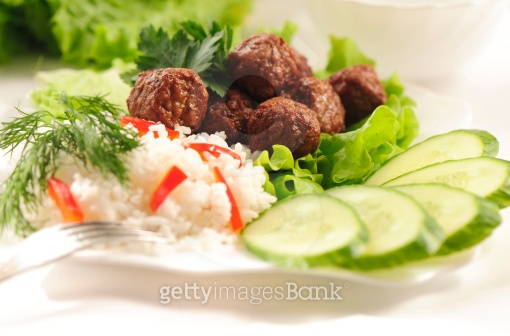chopped lettuce: (276, 150, 378, 180)
meatballs: (127, 29, 383, 154)
plain rice: (92, 157, 222, 225)
